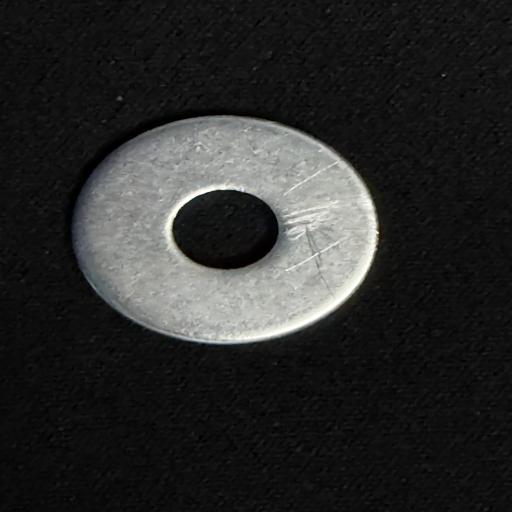Product: (72, 116, 378, 344)
Scratch: (260, 161, 365, 196), (284, 243, 346, 279), (278, 201, 336, 239)
